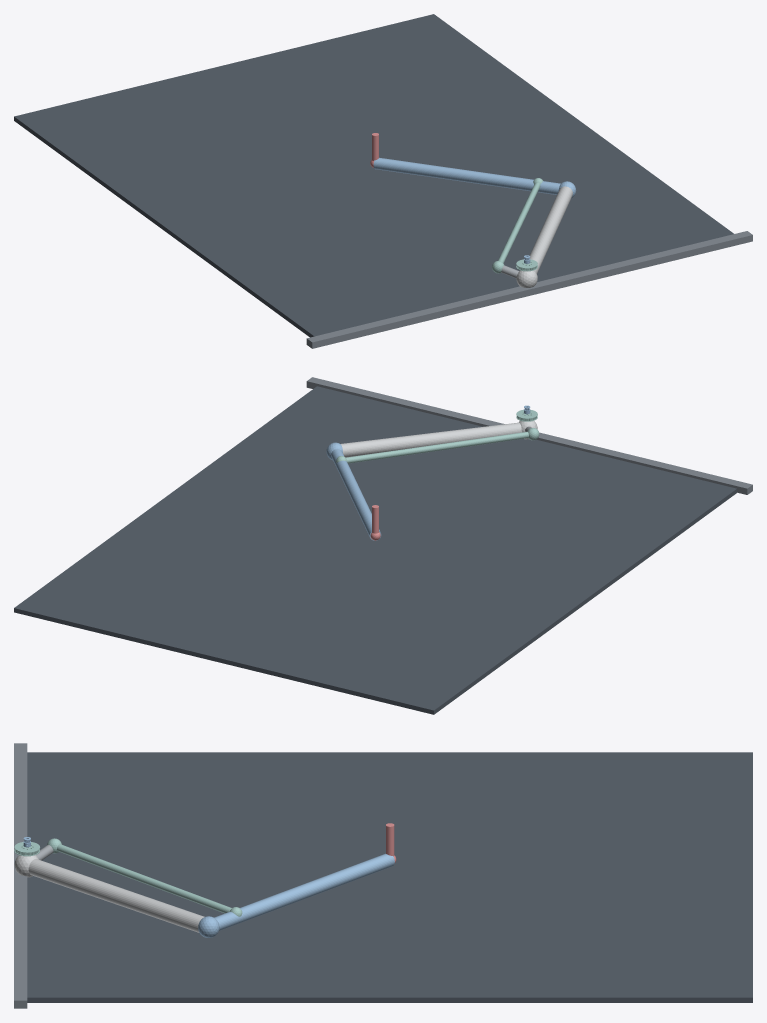
File: whiteboard-kinematic-model.glb
The picture shows the model from 3 angles, top to bottom: view 1: azimuth 30°, elevation 25°; view 2: azimuth 150°, elevation 25°; view 3: azimuth 270°, elevation 25°; orthographic projection. The views are drawn at different scales.
Visible parts, largest first — view 1: 48 x 60 in whiteboard, top rail, 20 in forearm, 20 in primary link, 20 in secondary rod; view 2: 48 x 60 in whiteboard, top rail, 20 in primary link, 20 in secondary rod, 20 in forearm; view 3: 48 x 60 in whiteboard, top rail, 20 in primary link, 20 in forearm, 20 in secondary rod.
Boxes of the visible parts, box(x1,y1,x2,y2) form: 48 x 60 in whiteboard: box(14, 14, 733, 337); top rail: box(306, 231, 752, 348); 20 in forearm: box(373, 157, 560, 194); 20 in primary link: box(529, 186, 572, 273); 20 in secondary rod: box(498, 182, 540, 263); 48 x 60 in whiteboard: box(14, 386, 736, 714); top rail: box(306, 377, 752, 494); 20 in primary link: box(341, 422, 521, 457); 20 in secondary rod: box(346, 431, 528, 463); 20 in forearm: box(331, 449, 381, 540); 48 x 60 in whiteboard: box(27, 752, 752, 1002); top rail: box(14, 743, 27, 1008); 20 in primary link: box(28, 859, 204, 932); 20 in forearm: box(214, 853, 394, 930); 20 in secondary rod: box(57, 844, 231, 913).
Size of the model in its own units: 1279 by 128 by 1552.
